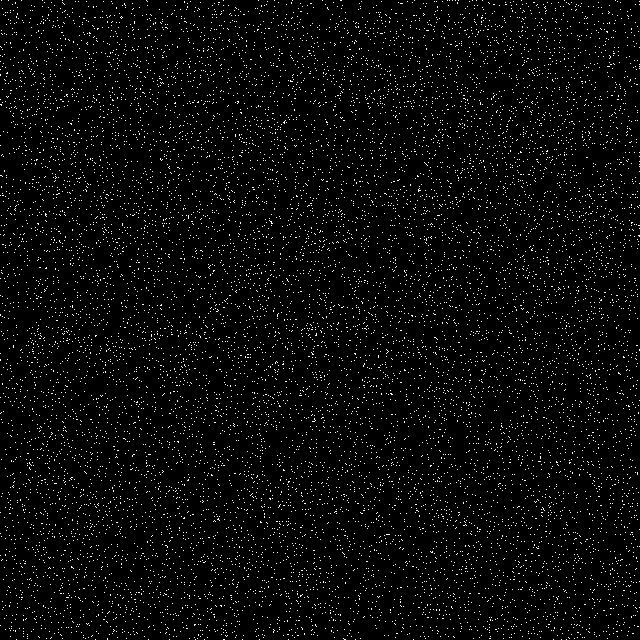adapter: (502, 91, 640, 455)
